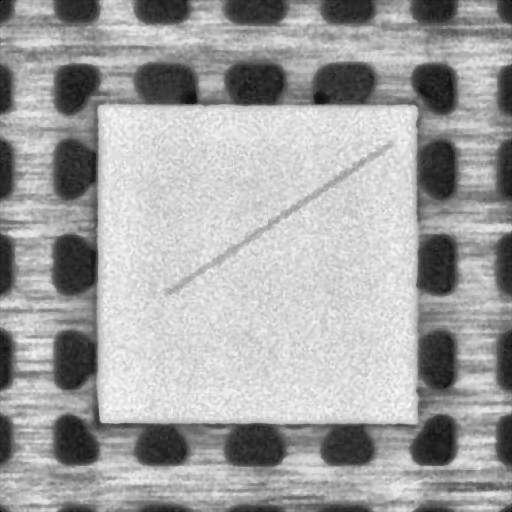DIE_CRACK: (166, 144, 388, 292)
